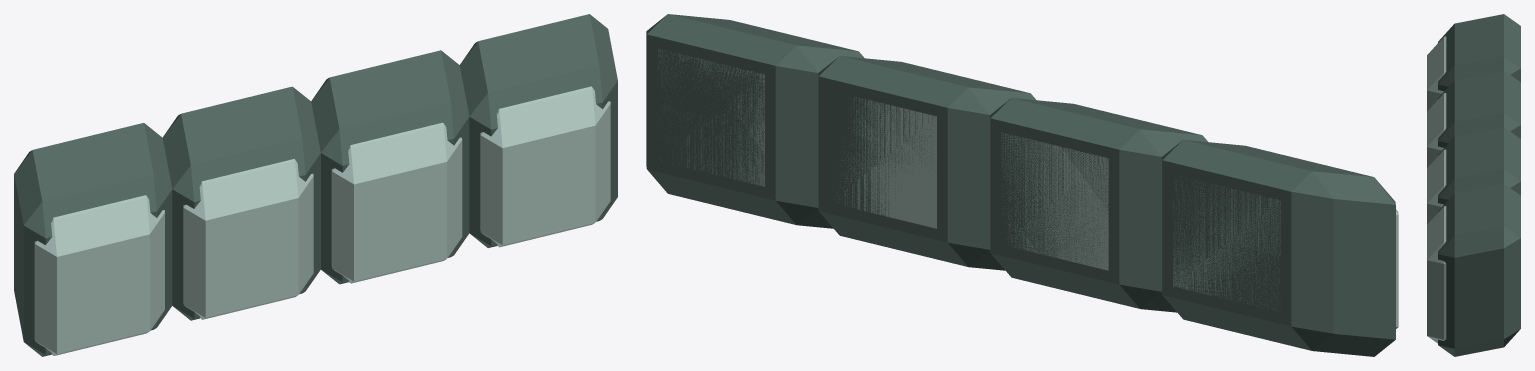
The model's file is Terrain_Block4x1.gltf.
3 renders of one model, left to right at view 1: azimuth 30°, elevation 25°; view 2: azimuth 150°, elevation 25°; view 3: azimuth 270°, elevation 25°, orthographic. The views are drawn at different scales.
Parts seen in each view (by area): view 1: Terrain_Block4x1_baked; view 2: Terrain_Block4x1_baked; view 3: Terrain_Block4x1_baked.
Boxes of the visible parts, x1,y1,x2,y2 form: Terrain_Block4x1_baked: [14, 14, 617, 356]; Terrain_Block4x1_baked: [646, 14, 1398, 356]; Terrain_Block4x1_baked: [1427, 14, 1520, 356].
Size of the model in its own units: 4.15 by 1.15 by 0.7.
